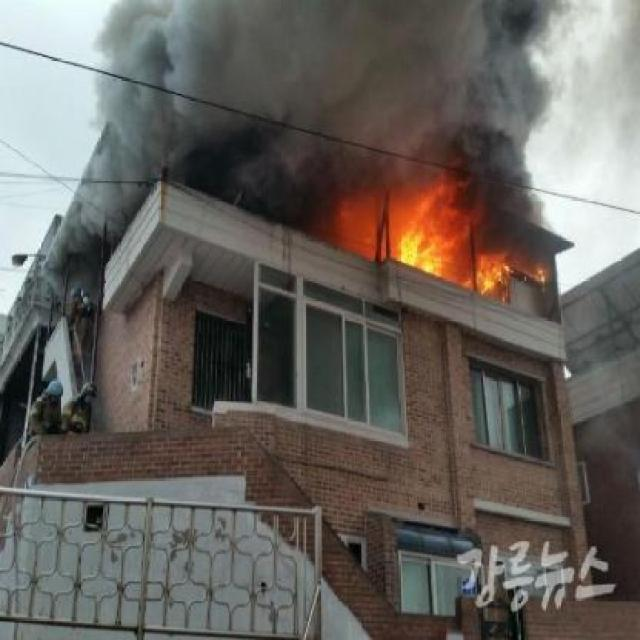Fire: (310, 134, 576, 312)
Smoke: (70, 6, 508, 144), (62, 156, 142, 240)
